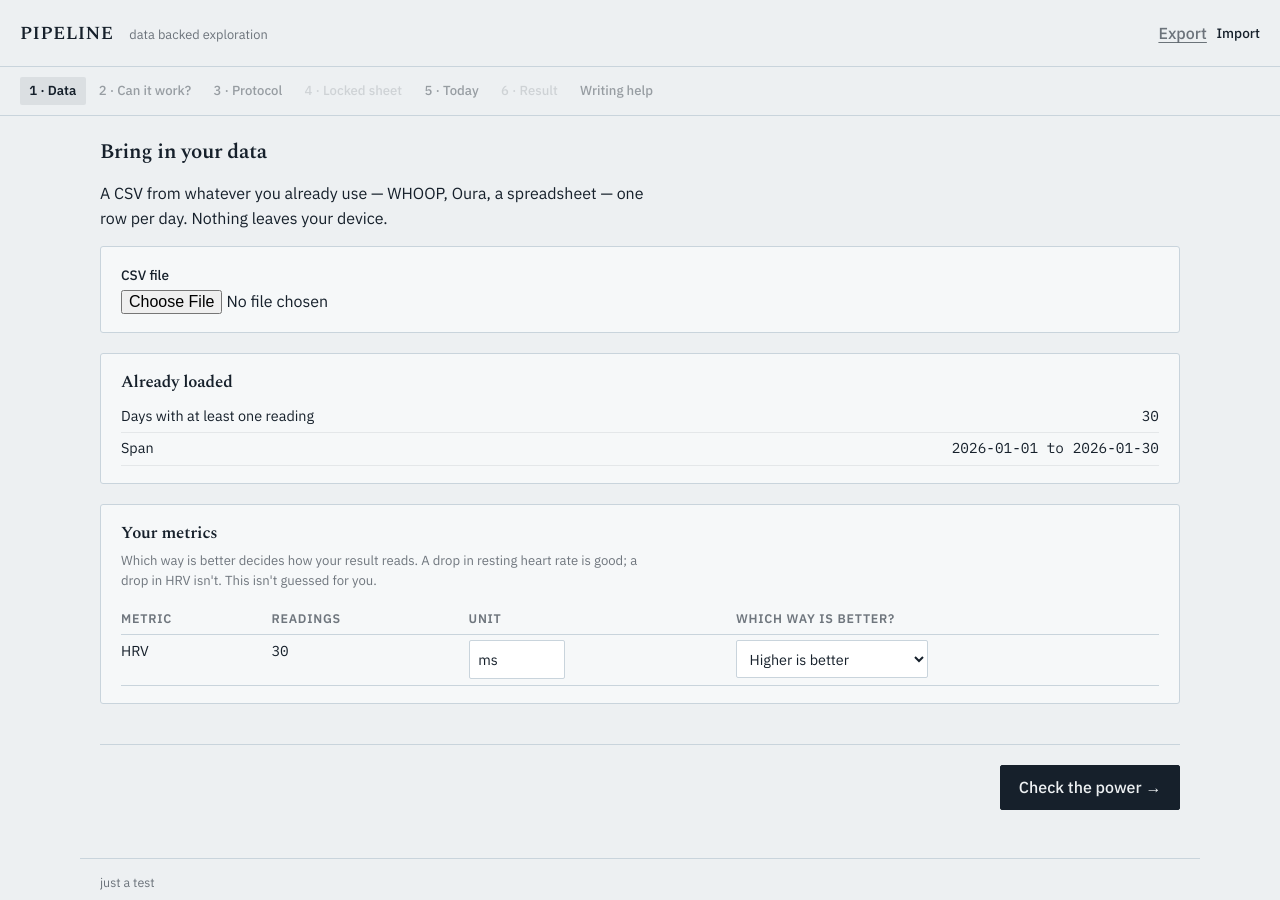
moving between stages › steps forward once data exists
Click the button "Check the power →".
click(1090, 788)  # box left=1000, top=766, right=1180, bottom=810
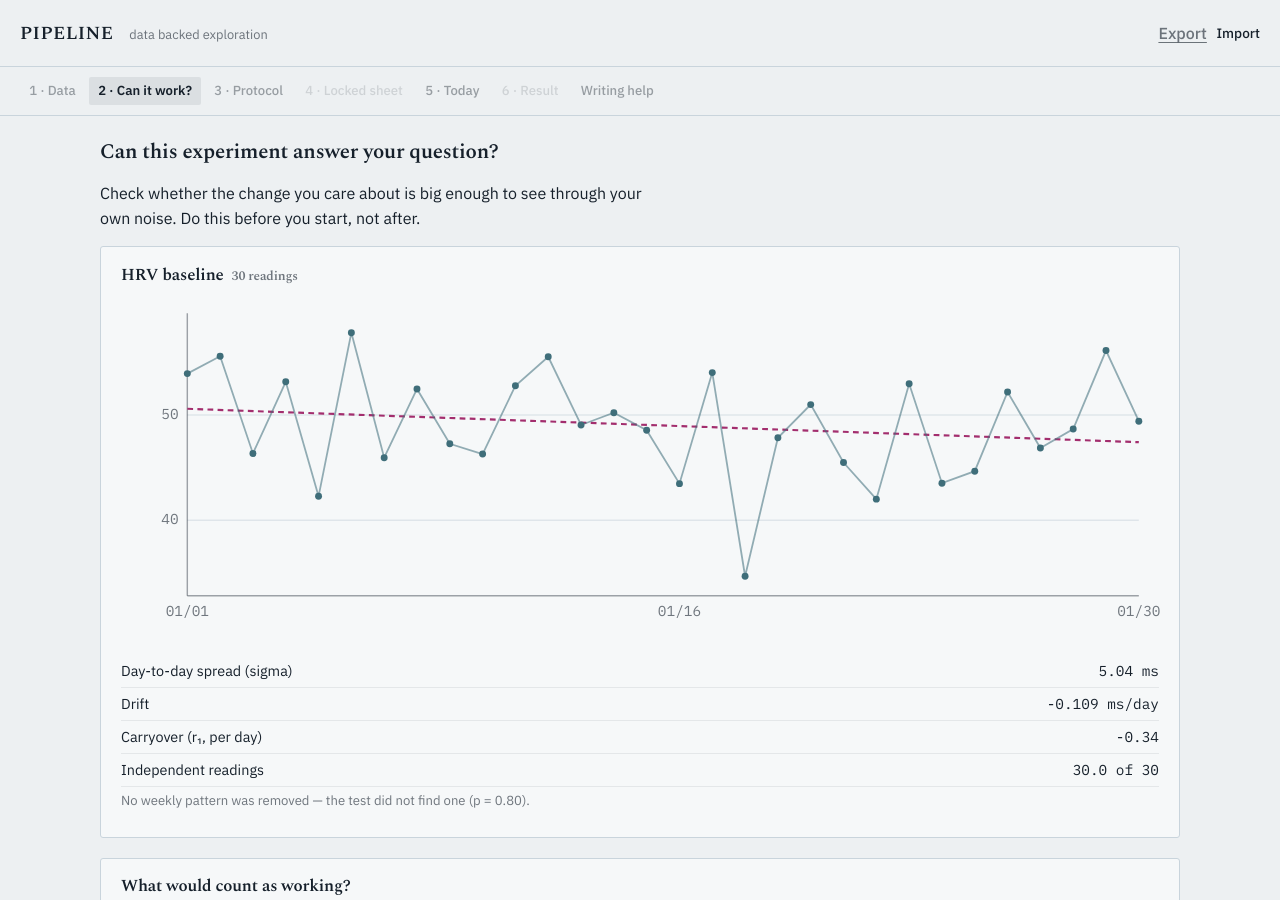
Expected: the heading "Can this experiment answer your question?" is shown, left=100, top=136, right=498, bottom=168
